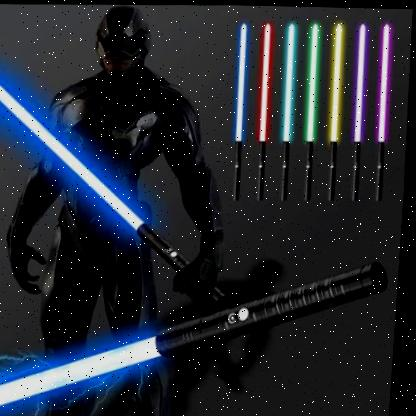lightsaber: (0, 252, 393, 416), (0, 74, 239, 309), (272, 20, 303, 204), (318, 21, 348, 206), (296, 21, 325, 204), (224, 19, 252, 204), (367, 22, 394, 205), (251, 20, 277, 206), (347, 21, 372, 202)
